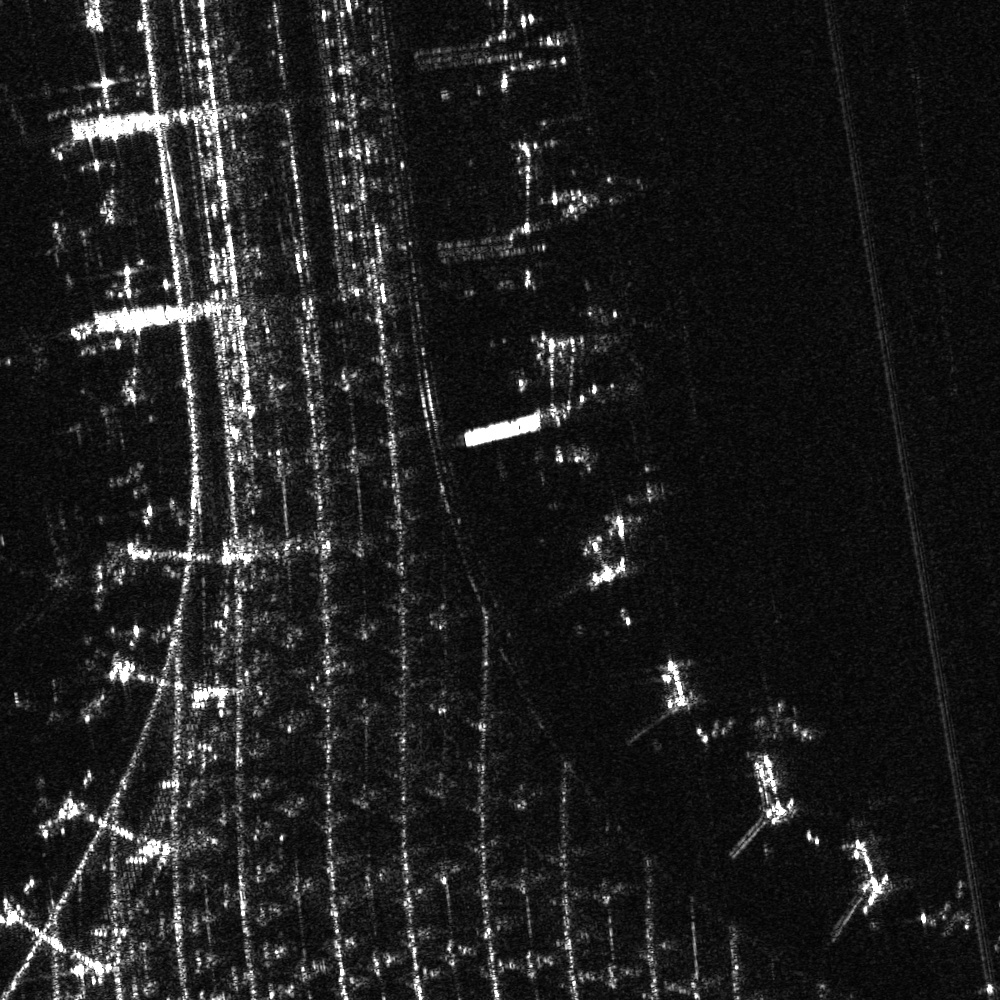A220: (5, 674, 71, 735)
Boeing787: (1, 320, 61, 389)
other: (1, 502, 83, 635)
